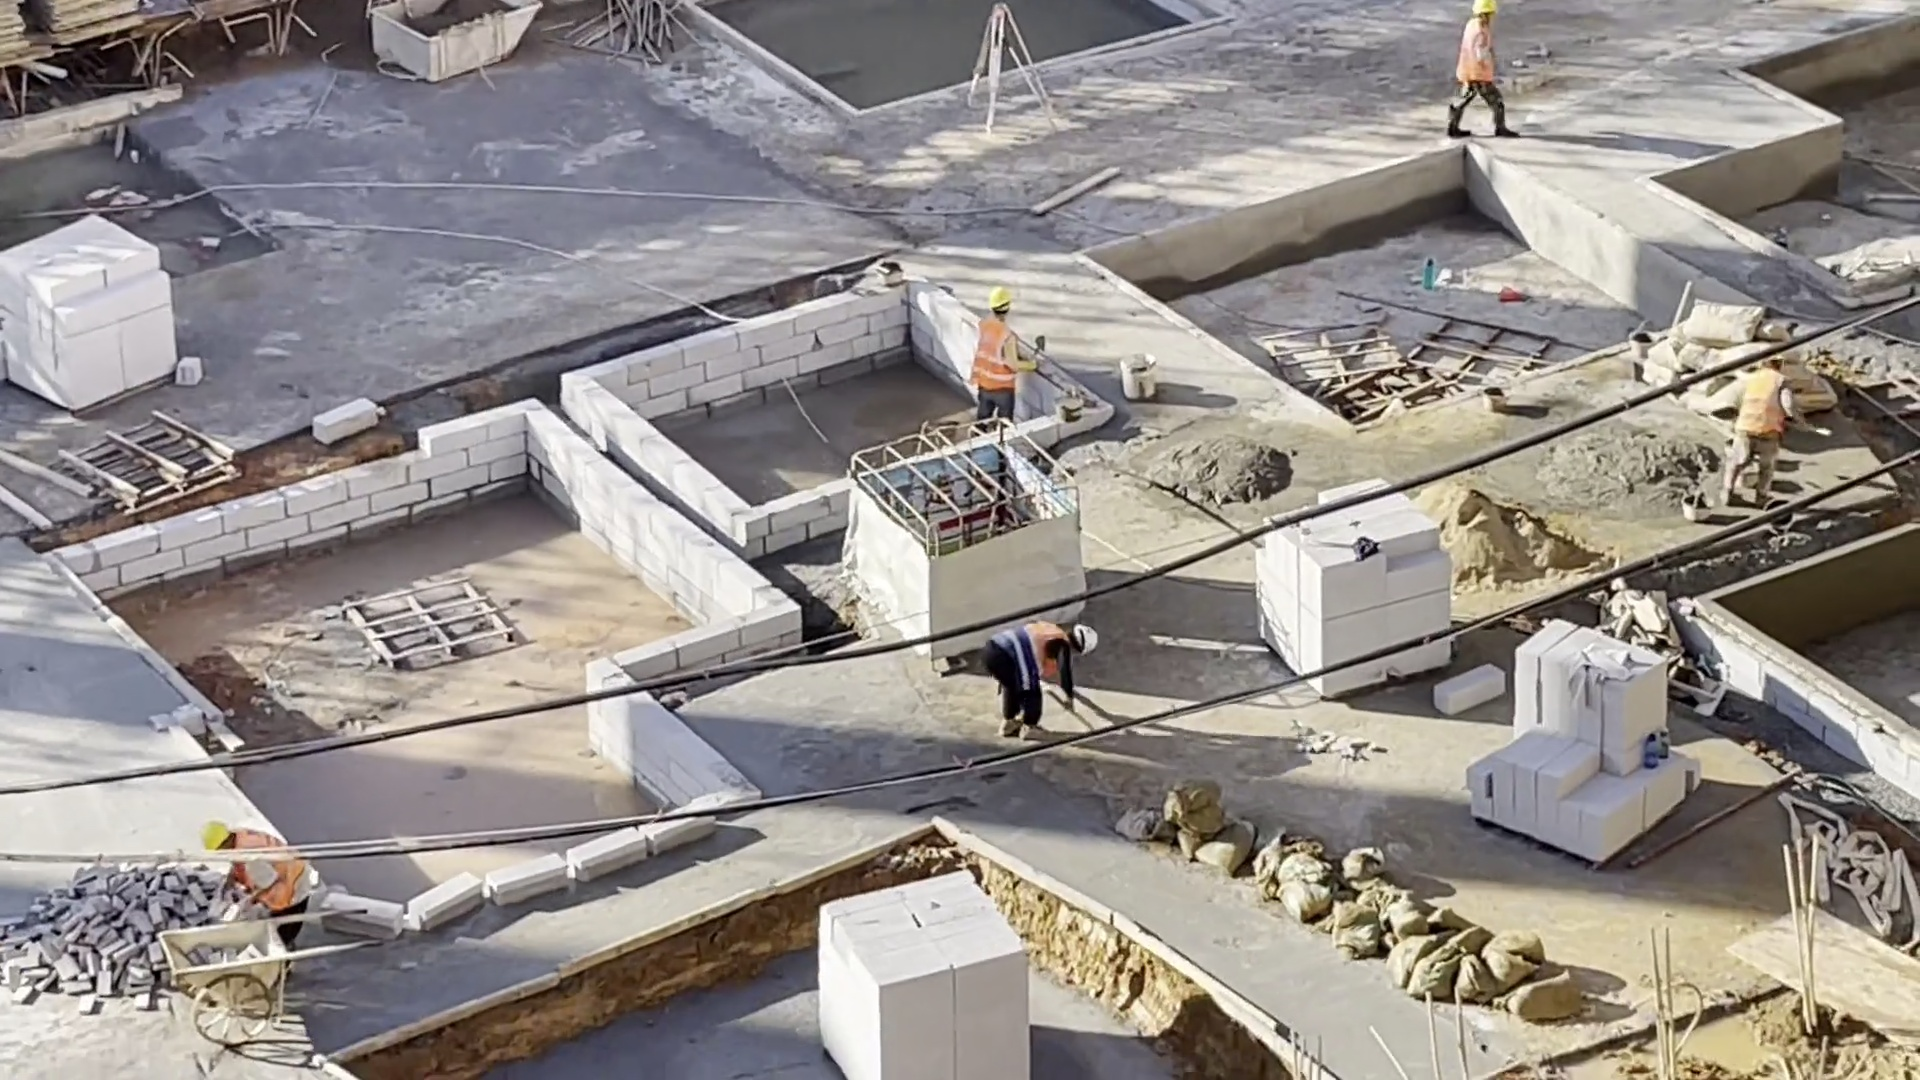board: (1, 1, 193, 37)
brick: (768, 884, 1029, 1080), (1499, 627, 1686, 854), (1266, 502, 1441, 699), (26, 237, 174, 392)
handcart: (168, 951, 314, 1059)
helmet: (209, 824, 239, 856), (1769, 352, 1804, 376), (979, 291, 1011, 317), (1078, 617, 1103, 649), (1476, 1, 1499, 19)
hopper: (378, 1, 535, 72)
person: (203, 823, 316, 951), (1001, 616, 1094, 738), (1449, 1, 1528, 136), (1743, 358, 1788, 496), (979, 303, 1023, 423)
vest: (1006, 597, 1069, 681), (256, 812, 306, 906), (973, 324, 1024, 392), (1749, 379, 1789, 449), (1456, 24, 1499, 82)
